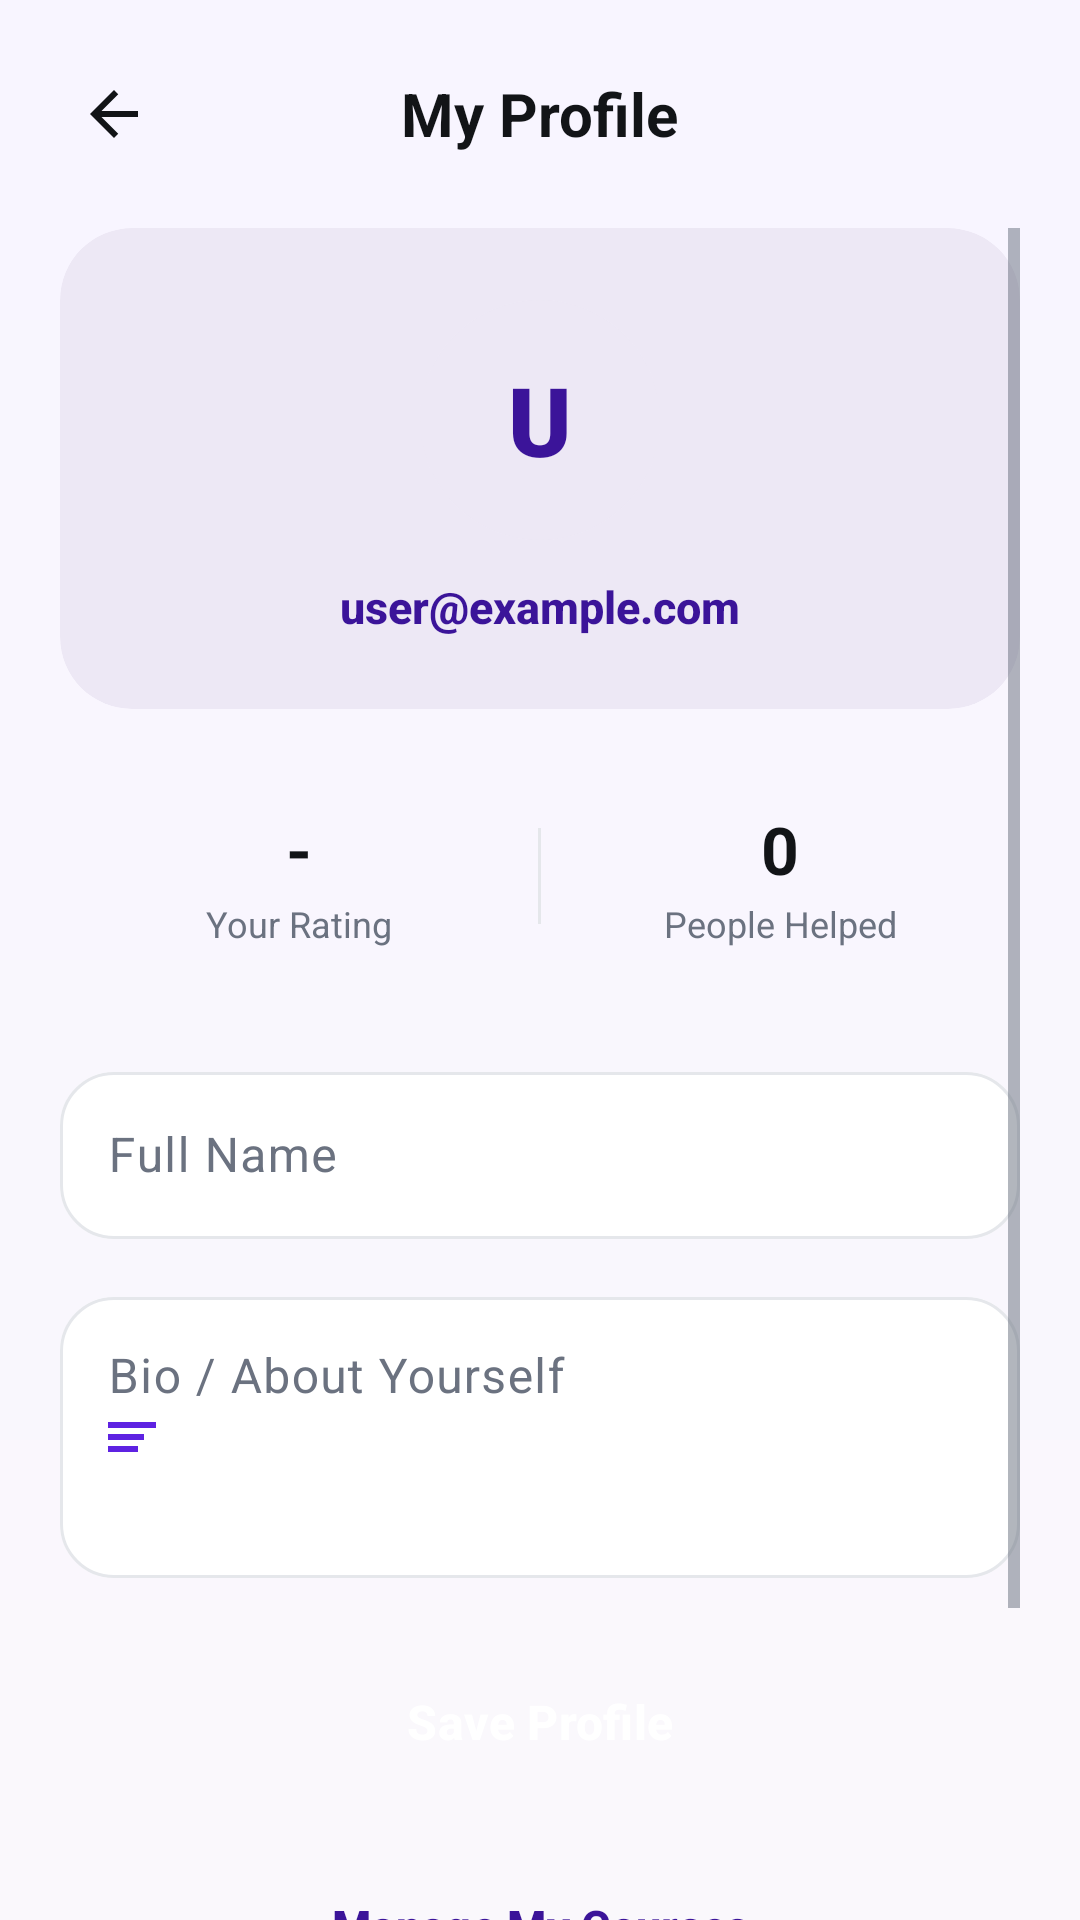

Locate icon controls on the screen. Image size 1080w x 1920h, boxes as (x1, y1, x2, y2).
Back: (90, 90, 138, 138)
